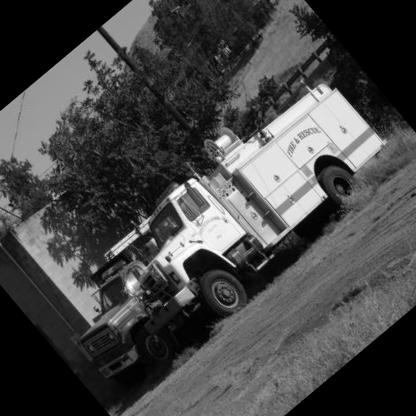truck: (82, 40, 416, 358), (41, 254, 192, 404)
